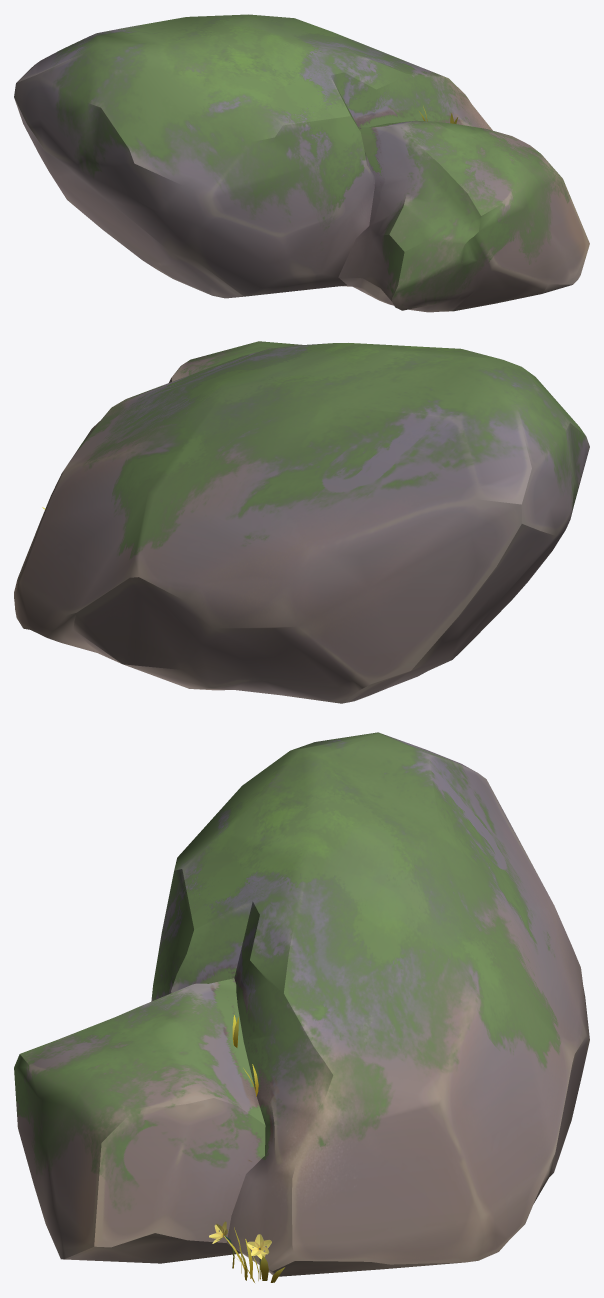
Rendered from low-poly_forest_boulder.glb.
The picture shows the model from 3 angles, top to bottom: view 1: azimuth 30°, elevation 25°; view 2: azimuth 150°, elevation 25°; view 3: azimuth 270°, elevation 25°; orthographic projection. The views are drawn at different scales.
Parts seen in each view (by area): view 1: StevenRock_LOD0; view 2: StevenRock_LOD0; view 3: StevenRock_LOD0.
Part boxes in pixels (bbox=[...]): StevenRock_LOD0: bbox=[14, 14, 589, 312]; StevenRock_LOD0: bbox=[14, 341, 589, 703]; StevenRock_LOD0: bbox=[14, 732, 589, 1282].
Size of the model in its own units: 0.3306 by 0.1658 by 0.2784.
1 material, 1 textured.
